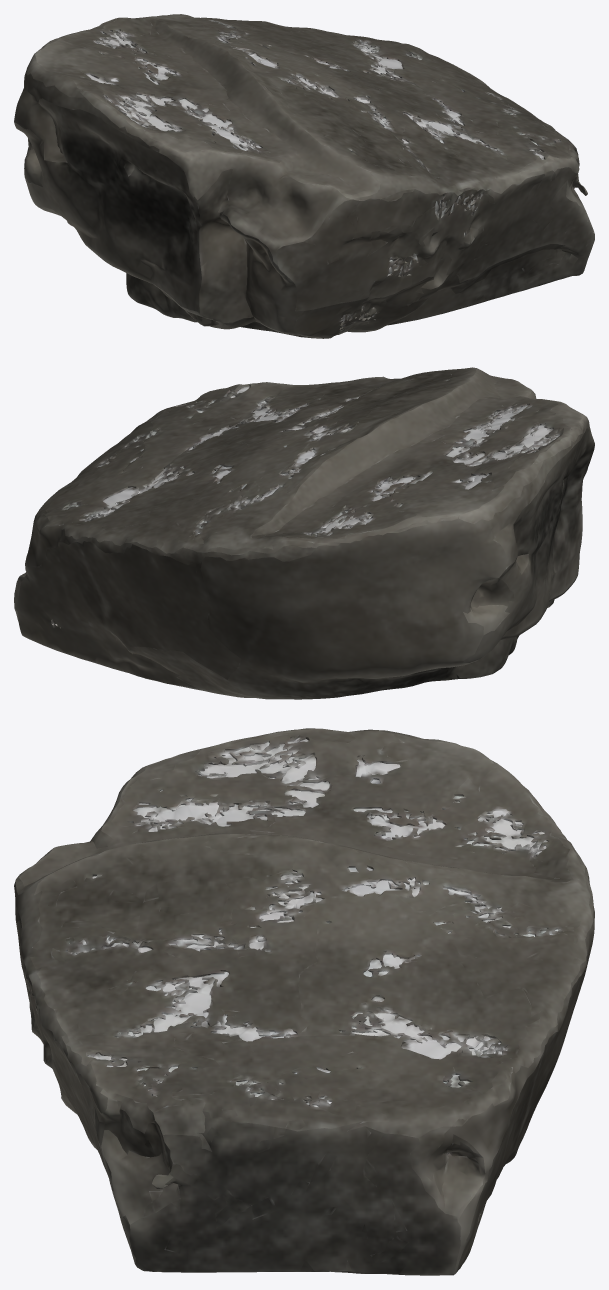
The picture shows the model from 3 angles, top to bottom: view 1: azimuth 30°, elevation 25°; view 2: azimuth 150°, elevation 25°; view 3: azimuth 270°, elevation 25°; orthographic projection. The views are drawn at different scales.
Parts seen in each view (by area): view 1: world; view 2: world; view 3: world.
Boxes of the visible parts, left/top/right/bottom form: world: left=14, top=14, right=594, bottom=338; world: left=14, top=367, right=594, bottom=699; world: left=14, top=728, right=594, bottom=1275.
Bounding box in the file's own units: 0.45 × 0.2202 × 0.4003.
1 material, 1 textured.
